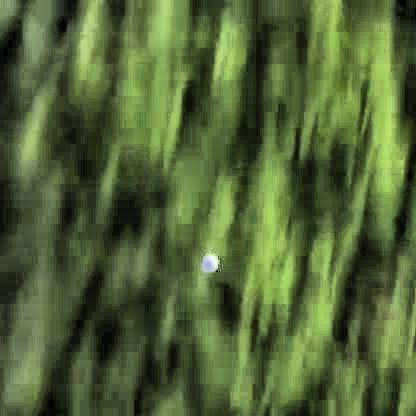golfball: (198, 251, 216, 269)
